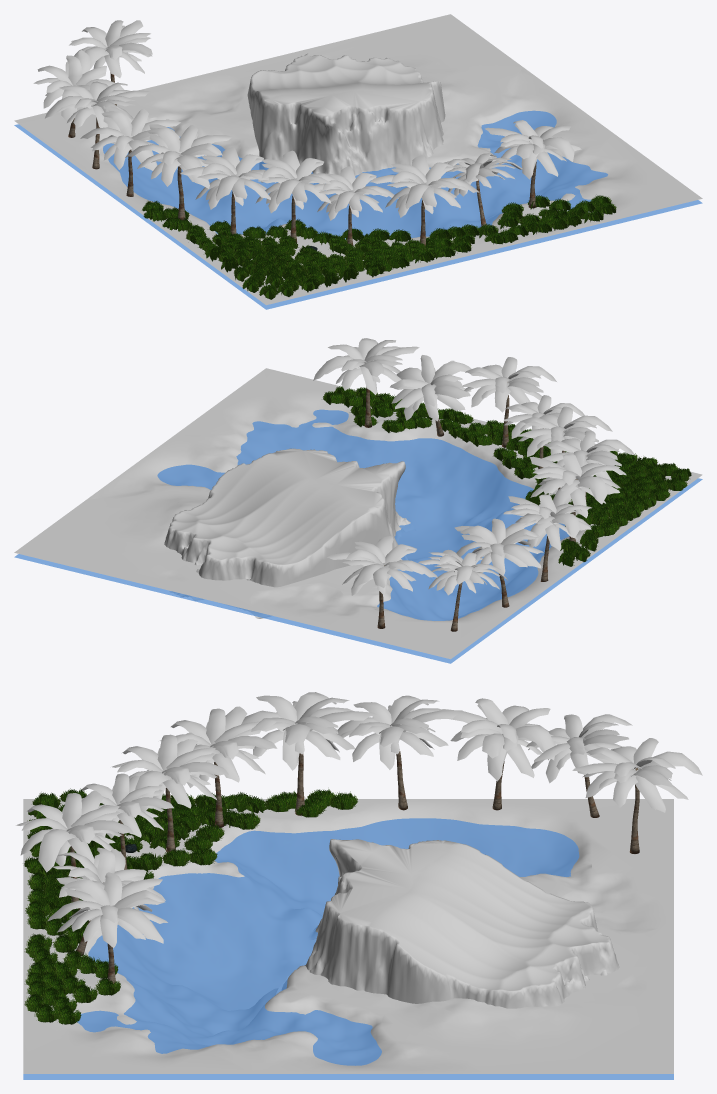
Rendered from Oasis-v1.fbx.
The picture shows the model from 3 angles, top to bottom: view 1: azimuth 30°, elevation 25°; view 2: azimuth 150°, elevation 25°; view 3: azimuth 270°, elevation 25°; orthographic projection. The views are drawn at different scales.
Parts seen in each view (by area): view 1: Oasis; view 2: Oasis; view 3: Oasis.
Part boxes in pixels (left/top/right/bottom): Oasis: left=14, top=14, right=702, bottom=309; Oasis: left=14, top=338, right=702, bottom=663; Oasis: left=16, top=692, right=702, bottom=1079.
Bounding box in the file's own units: 37.46 × 10.87 × 37.01.
